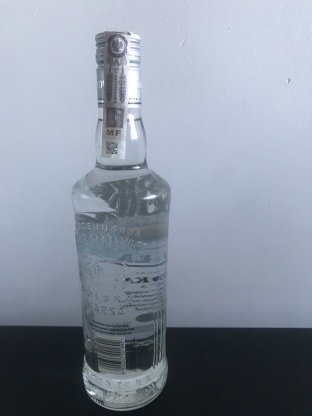nakretka: (92, 27, 144, 112)
